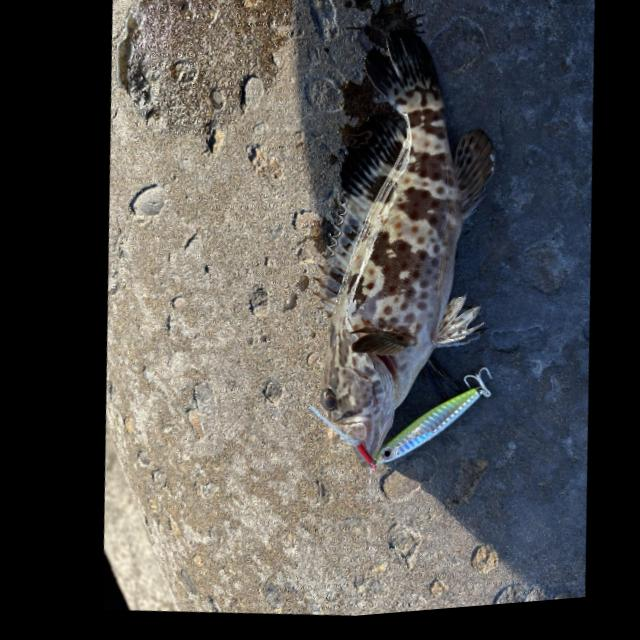Groupers: (271, 1, 544, 478)
